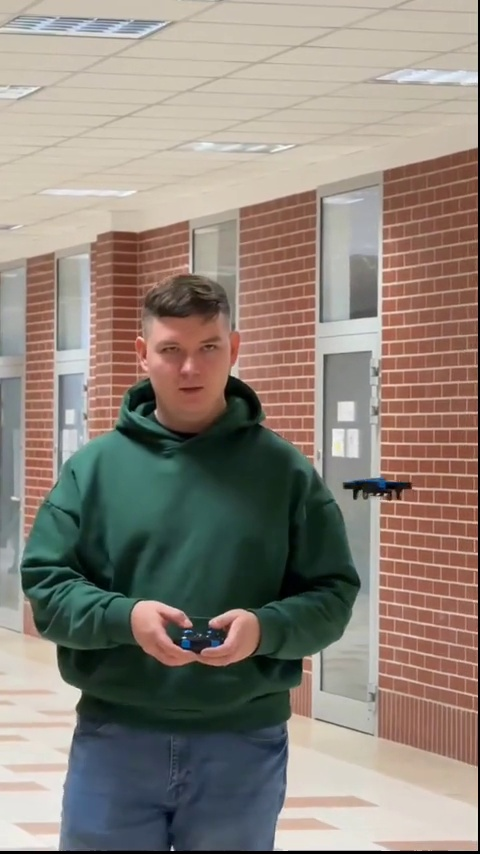drone: (343, 478, 414, 500)
no vest: (25, 273, 373, 825)
